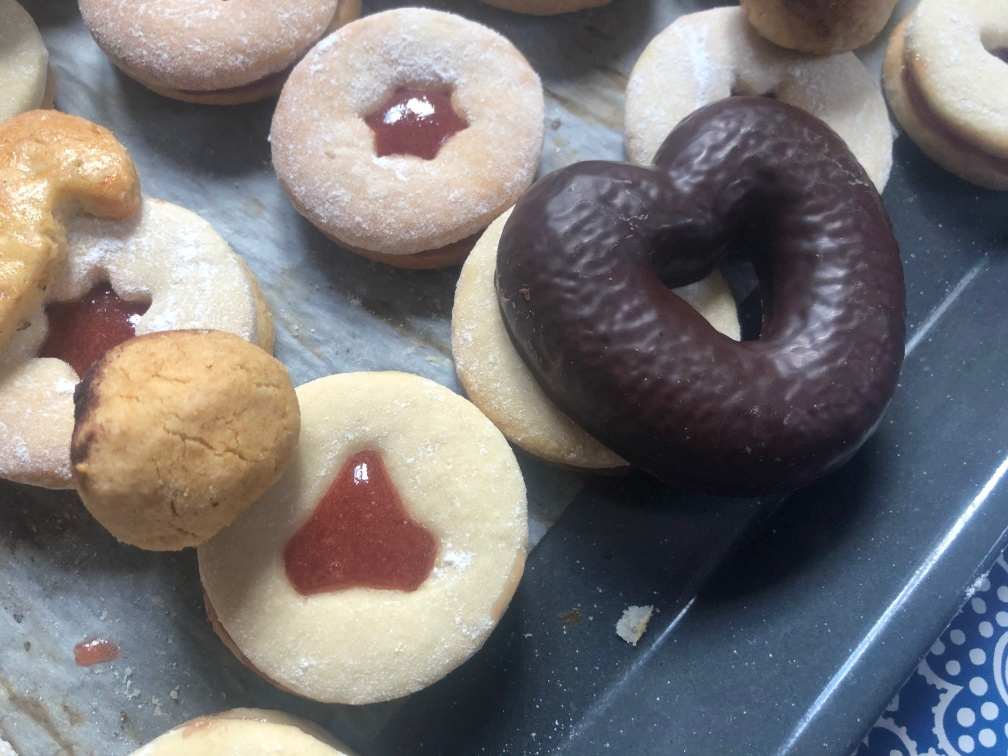christmas shortbread with jam: (186, 368, 535, 712), (2, 189, 260, 478), (268, 5, 541, 268), (882, 3, 1008, 182)
heart: (490, 91, 907, 505)
snowball: (70, 329, 302, 549)
